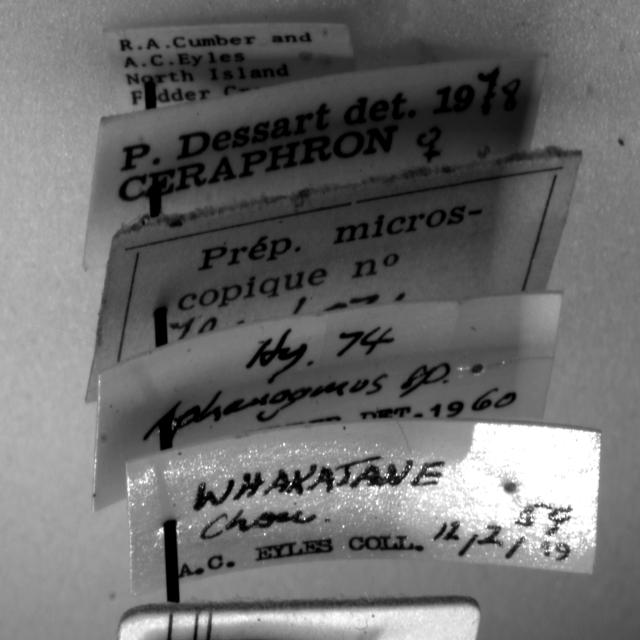hand_label: (92, 292, 561, 510)
mixed_label: (84, 54, 546, 268), (126, 420, 601, 594)
typed_label: (86, 148, 581, 401), (104, 22, 355, 112)
